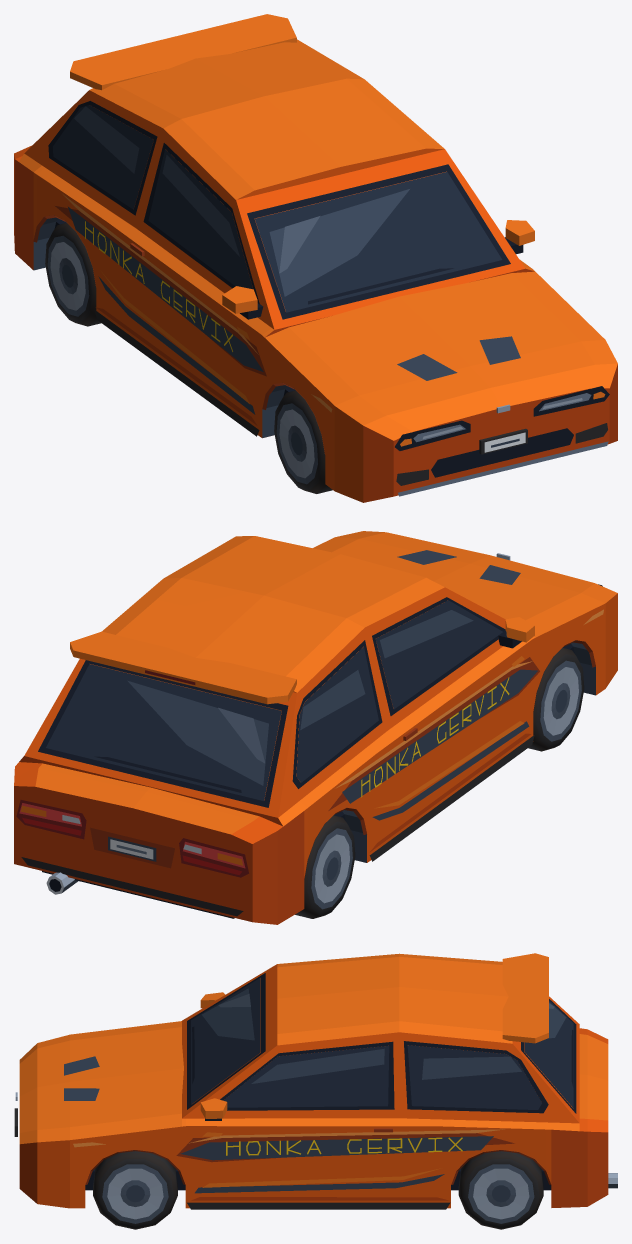
Rendered from sedan-orange.glb.
3 renders of one model, top to bottom at view 1: azimuth 30°, elevation 25°; view 2: azimuth 150°, elevation 25°; view 3: azimuth 270°, elevation 25°, orthographic. The views are drawn at different scales.
Parts seen in each view (by area): view 1: Honka Cervix - Orange Hatchback; view 2: Honka Cervix - Orange Hatchback; view 3: Honka Cervix - Orange Hatchback.
Part boxes in pixels (x1=…): Honka Cervix - Orange Hatchback: x1=14, y1=14, x2=617, y2=502; Honka Cervix - Orange Hatchback: x1=14, y1=531, x2=617, y2=924; Honka Cervix - Orange Hatchback: x1=14, y1=953, x2=617, y2=1229.
Size of the model in its own units: 1.89 by 1.44 by 4.06.
1 material, 1 textured.
